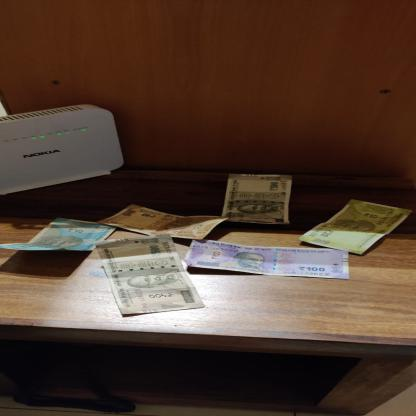New100Front: (184, 239, 350, 279)
New10Front: (98, 203, 231, 240)
New20Front: (297, 199, 414, 255)
New500Front: (94, 233, 206, 314), (221, 173, 293, 225)
New50Front: (0, 217, 117, 251)
